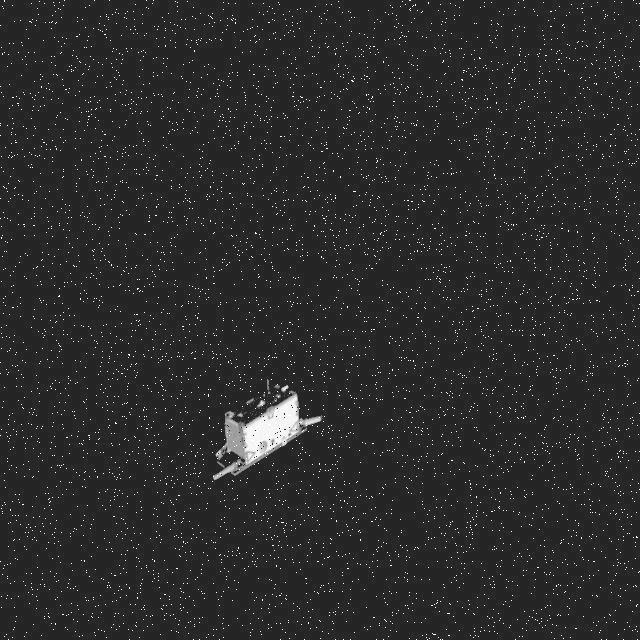medium_debris: (194, 390, 332, 484)
